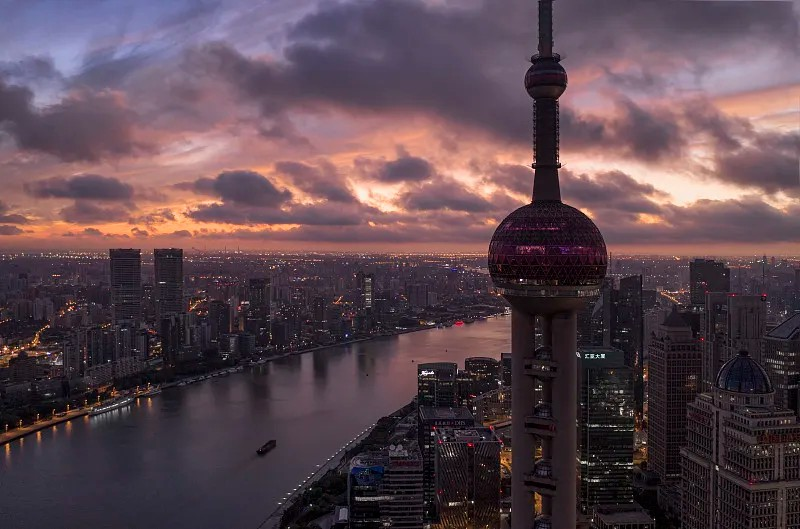Oriental: (487, 1, 610, 529)
